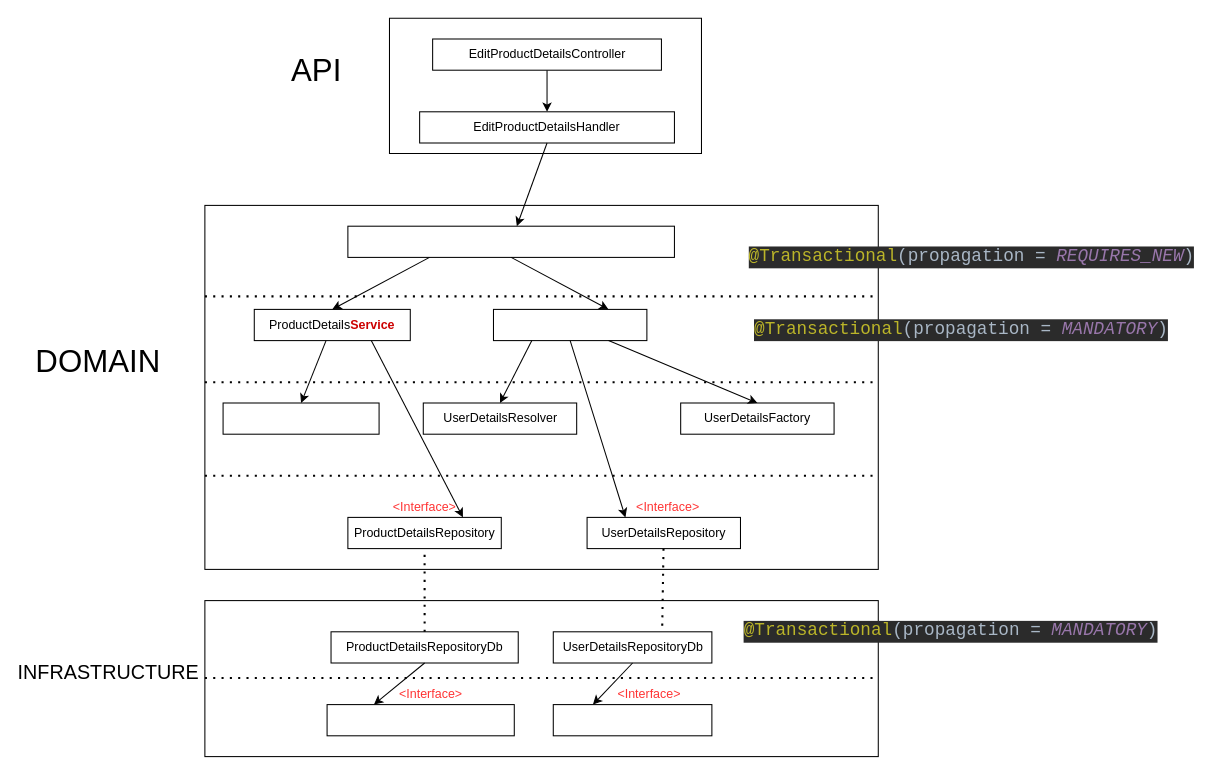
The diagram is 1212 pixels wide and 775 high, and some of its shapes have lost their labels. The shapes that lost their labels are listed below. From the top down, each one's centre as x and y in pixels, then its label:
pixel 510 241: EditProductDetails ApplicationService
pixel 569 324: UserDetails Service
pixel 300 418: ProductDetailsFactory
pixel 420 720: ProductDetailsRepositoryJPA
pixel 632 720: UserDetailsRepositoryJPA
